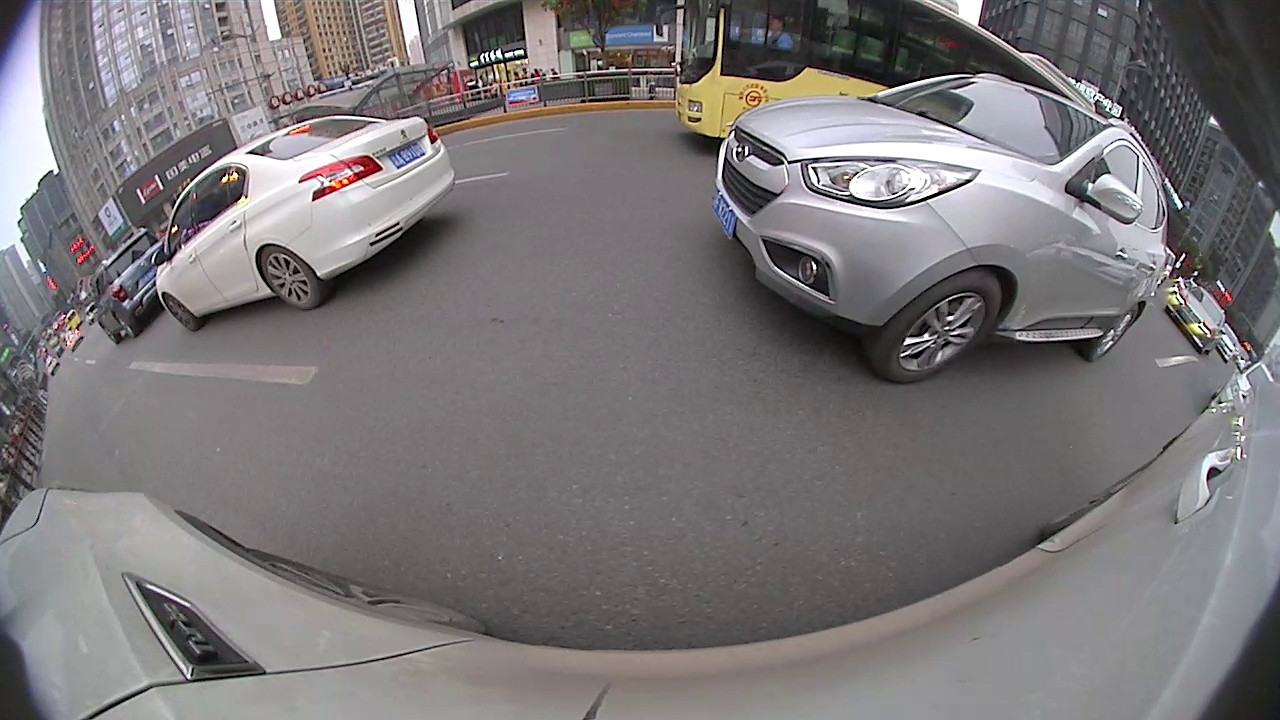bus: (672, 1, 1110, 143)
car: (708, 68, 1172, 386), (154, 113, 457, 332), (83, 225, 167, 343)
front: (872, 270, 1003, 386), (162, 292, 201, 335)
rear: (258, 245, 325, 312), (1081, 302, 1140, 366)
